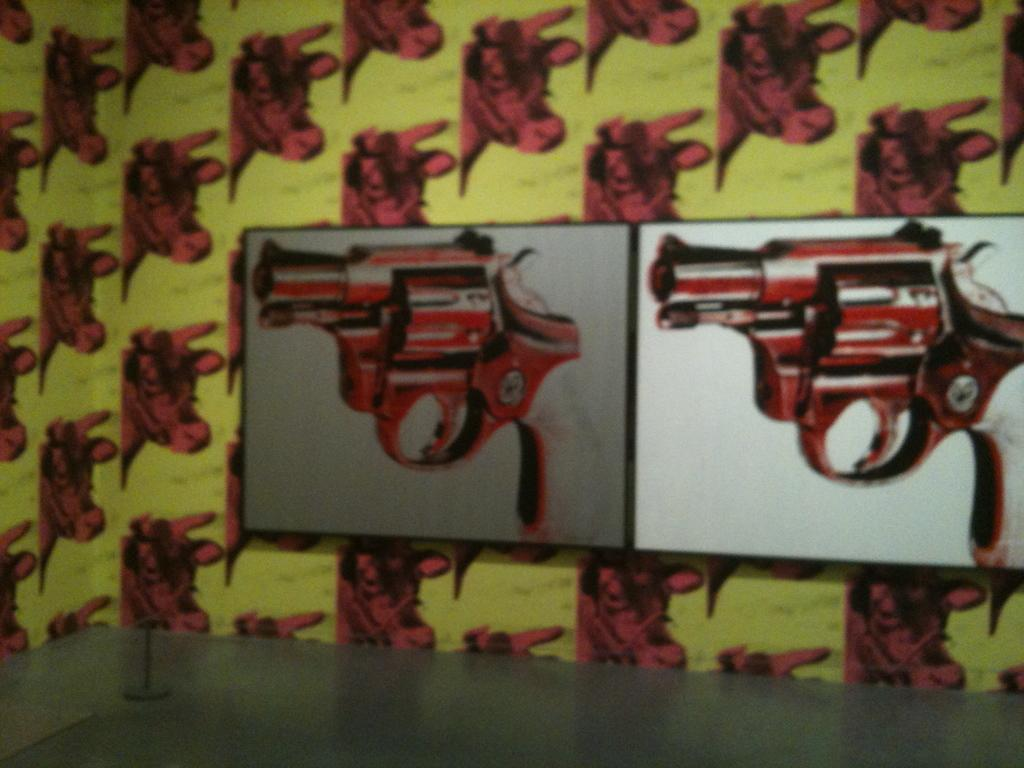Handgun: (648, 218, 1023, 572), (257, 227, 579, 534)
